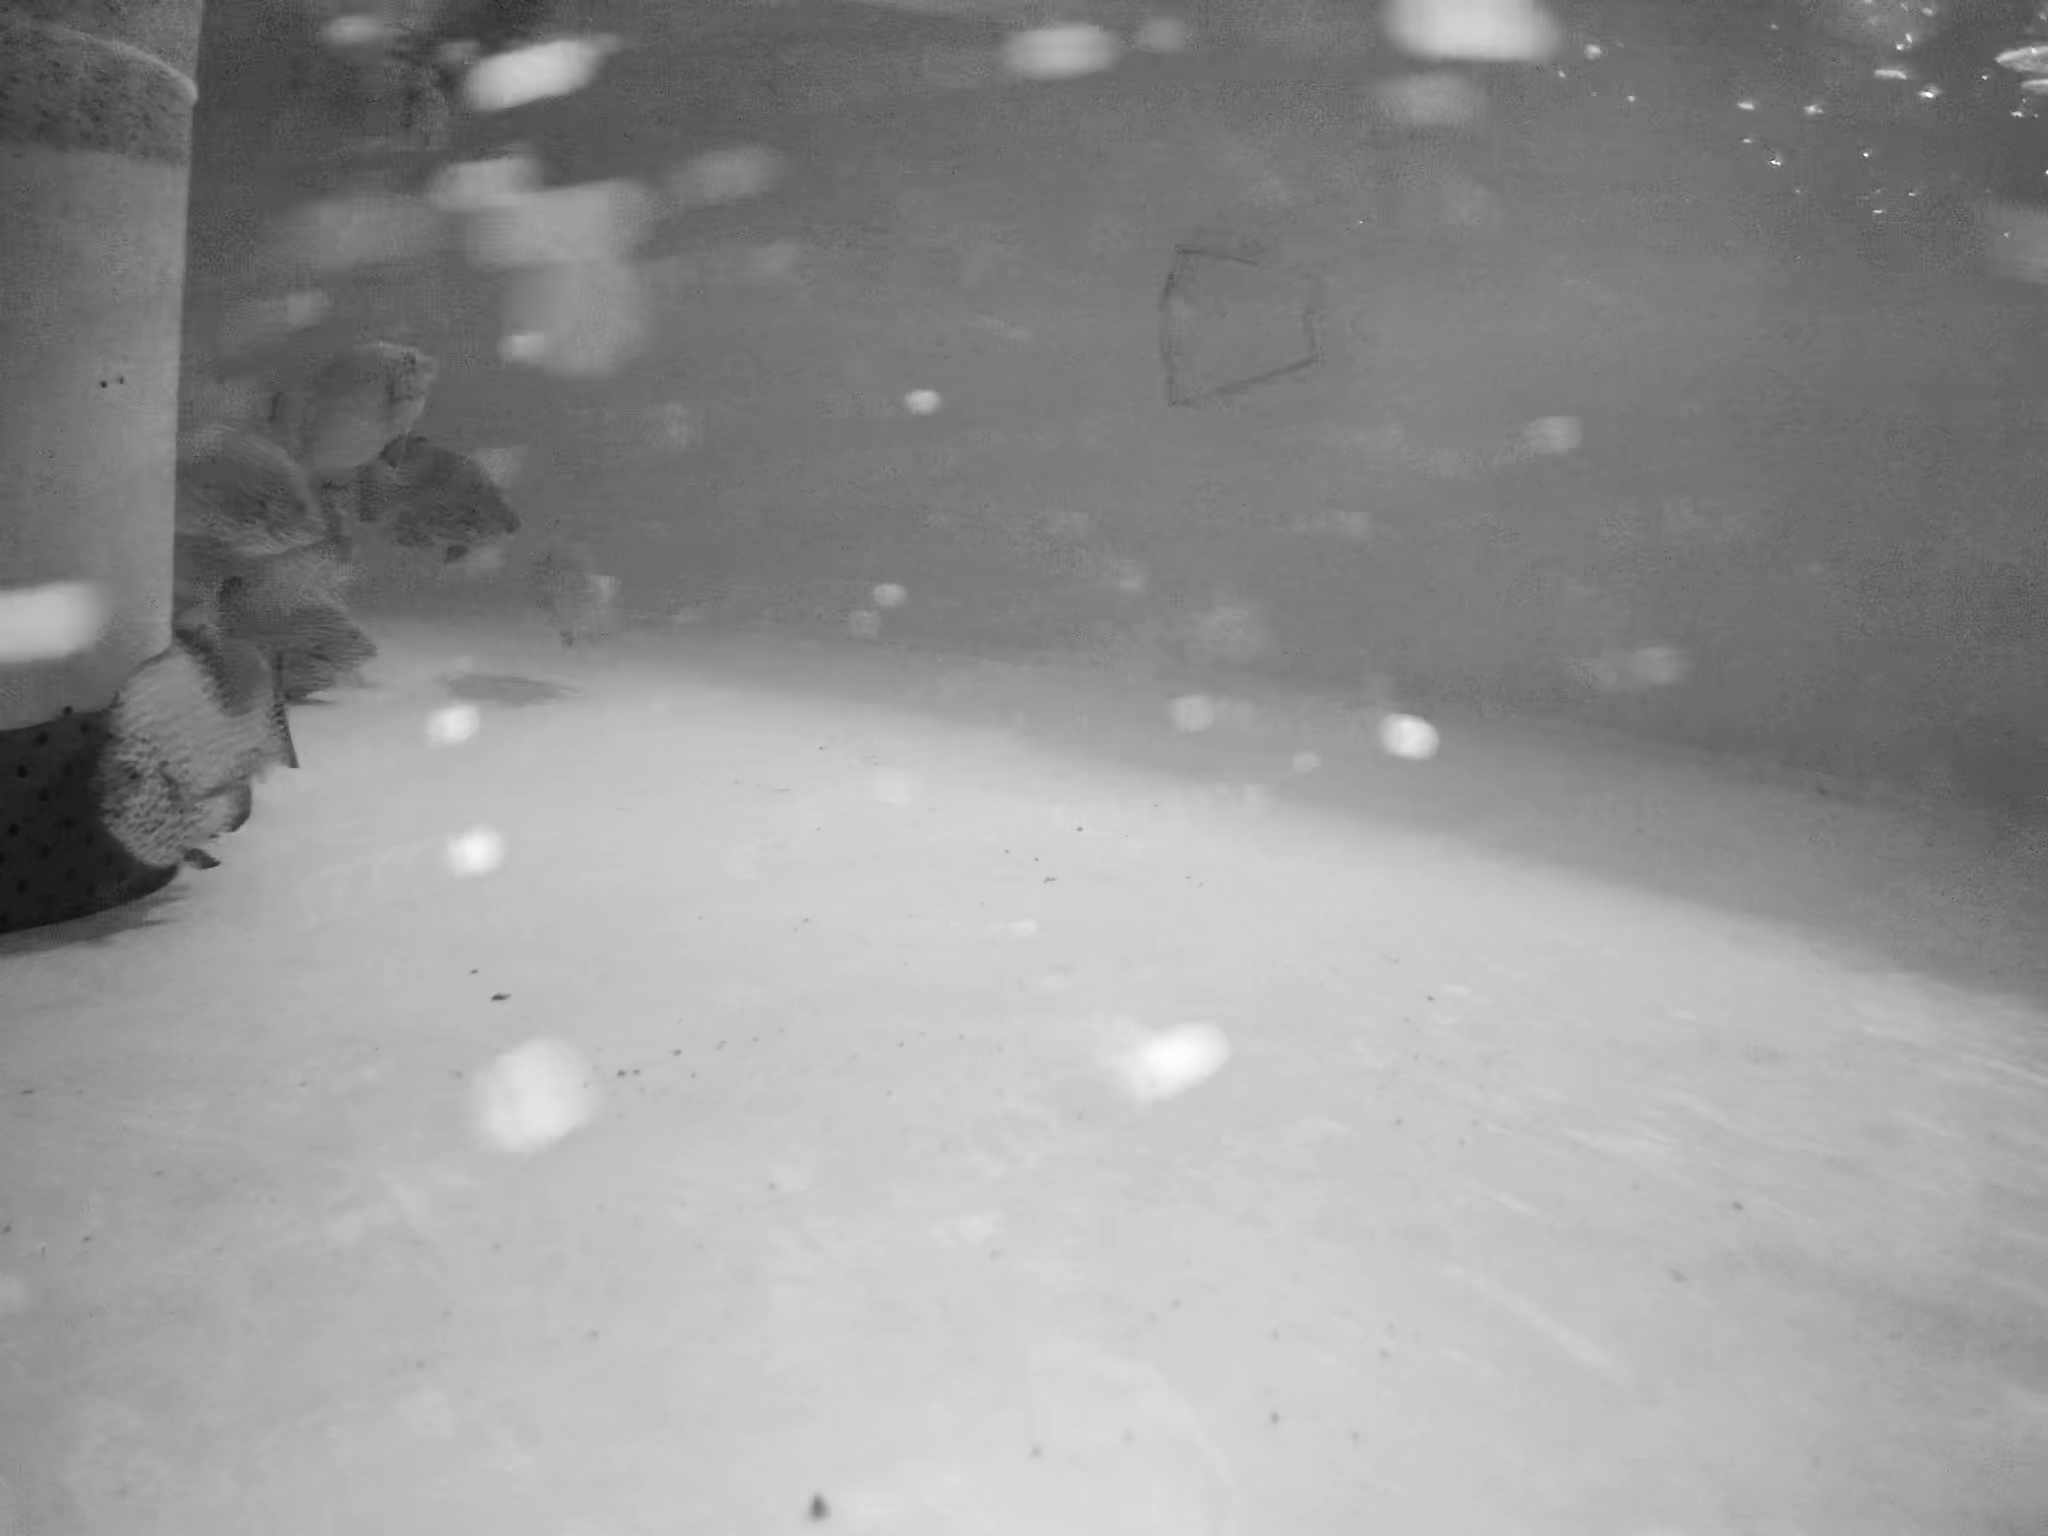fish: (111, 641, 311, 863), (266, 342, 468, 478), (177, 415, 348, 560), (229, 553, 400, 686), (516, 537, 640, 686), (377, 450, 531, 563)
